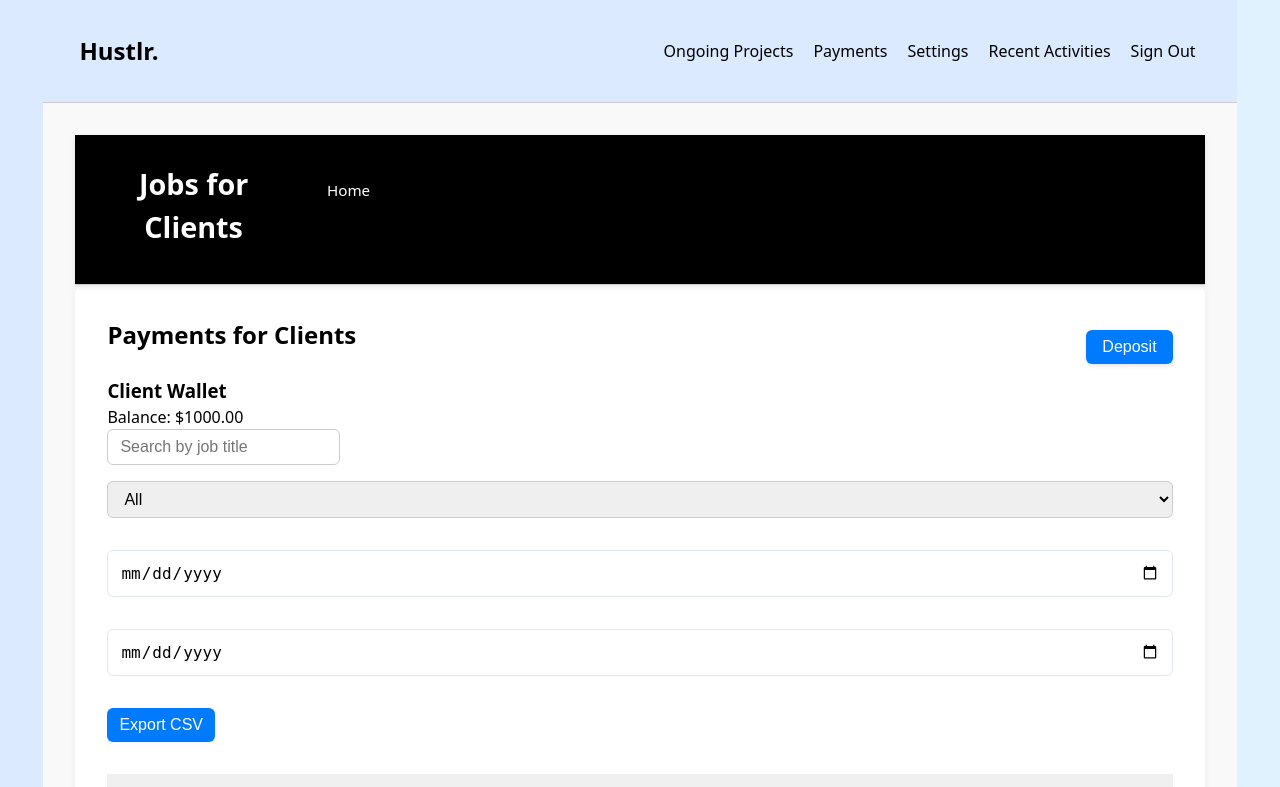
Scenario: ClientPayments Component › handles deposit correctly
Click the button "Deposit": point(1129, 347) top-left (1086, 330), bottom-right (1173, 364)
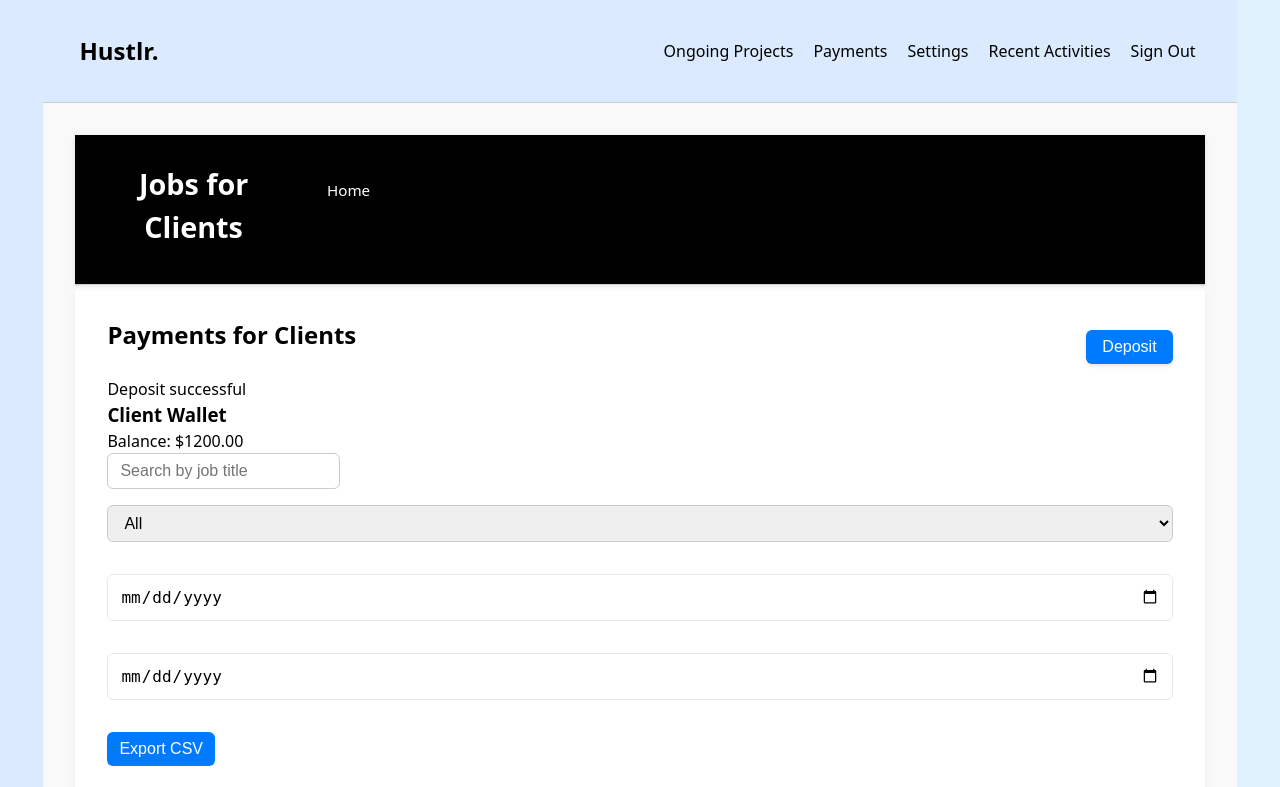
Result: the text "Deposit successful" is shown at top-left (107, 378), bottom-right (246, 400)
